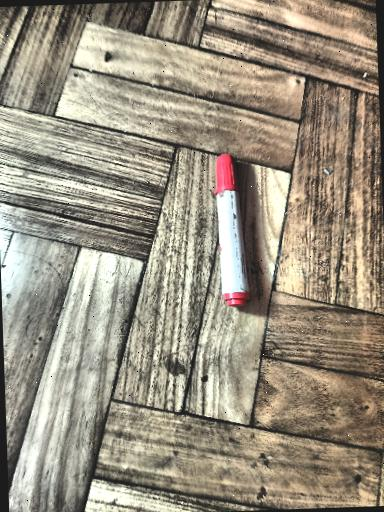marcador rojo: (214, 154, 249, 306)
